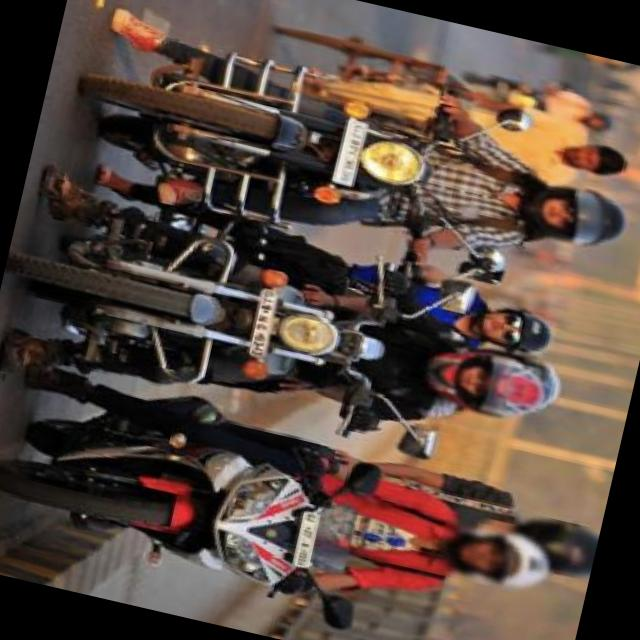With Helmet: (418, 331, 552, 428), (512, 168, 640, 264), (431, 508, 561, 600), (502, 508, 600, 582), (472, 299, 560, 362)
